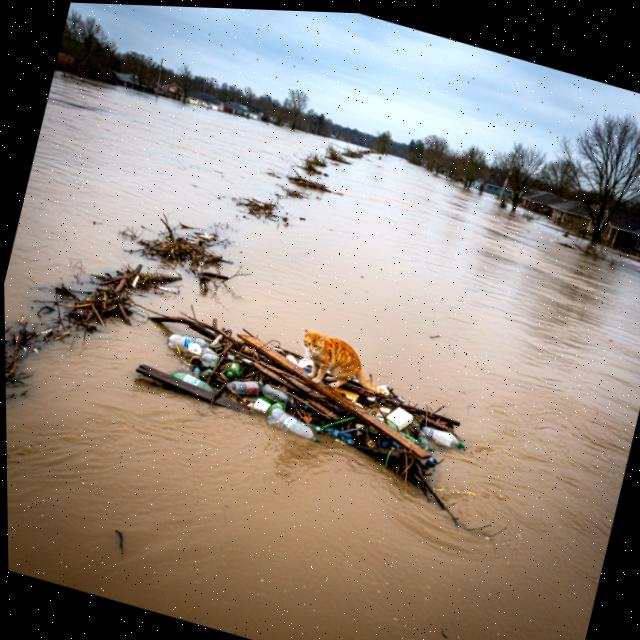cat: (281, 312, 395, 415)
